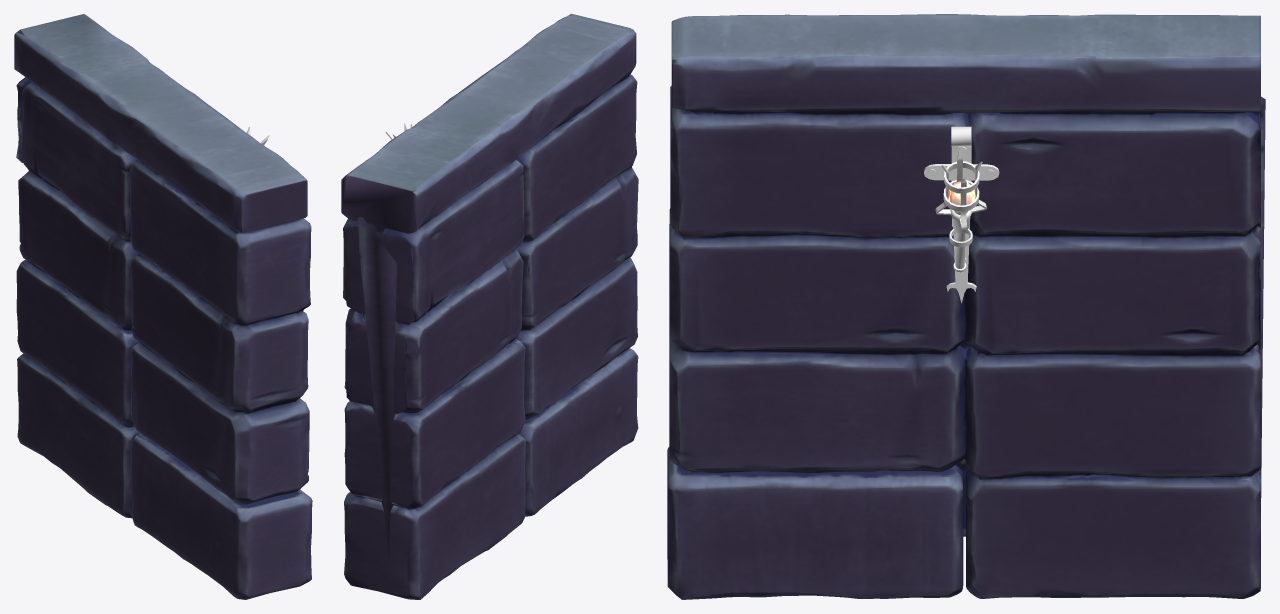
The model's file is WallTorch.glb.
3 renders of one model, left to right at view 1: azimuth 30°, elevation 25°; view 2: azimuth 150°, elevation 25°; view 3: azimuth 270°, elevation 25°, orthographic. The views are drawn at different scales.
Visible parts, largest first — view 1: WallTorch; view 2: WallTorch; view 3: WallTorch.
Boxes of the visible parts, x1,y1,x2,y2 form: WallTorch: (14,14,312,599); WallTorch: (341,14,638,599); WallTorch: (667,14,1265,599).
Size of the model in its own units: 3.66 by 10 by 10.
Materials: 2 (1 with a texture image).
